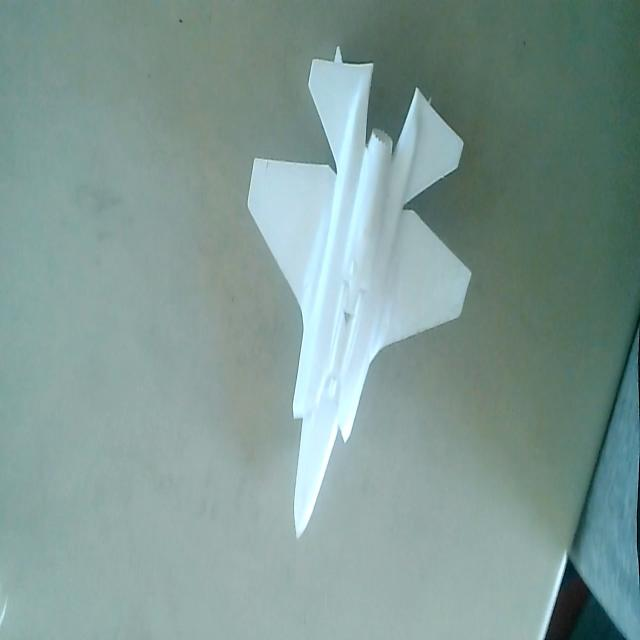Jet: (245, 37, 473, 543)
